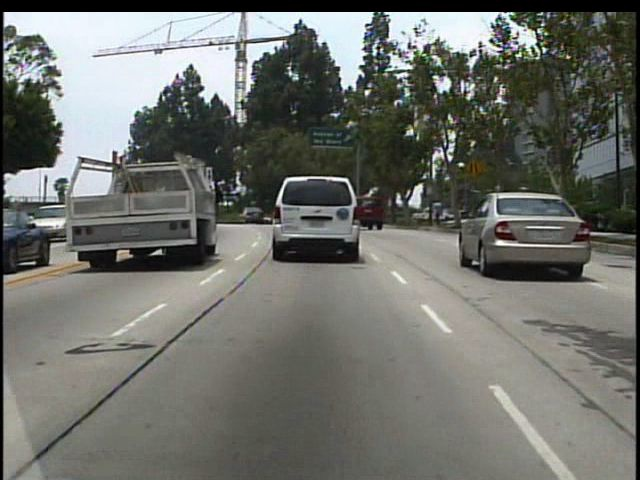person: (431, 195, 447, 232)
